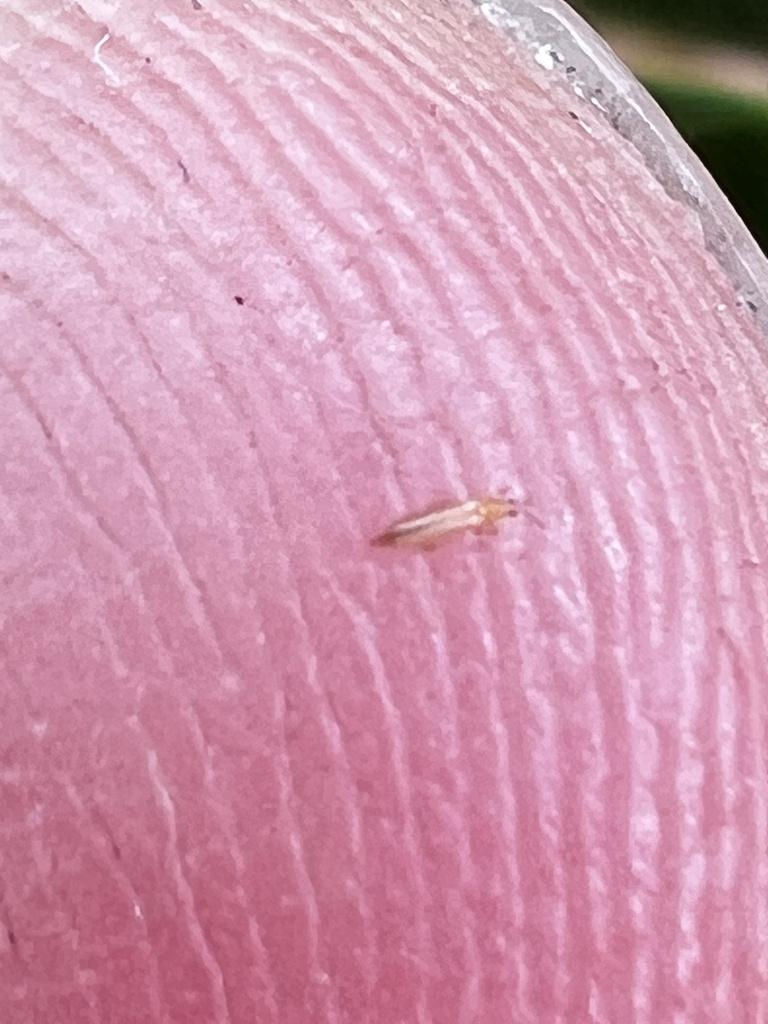tiny_pests: (336, 464, 589, 600)
